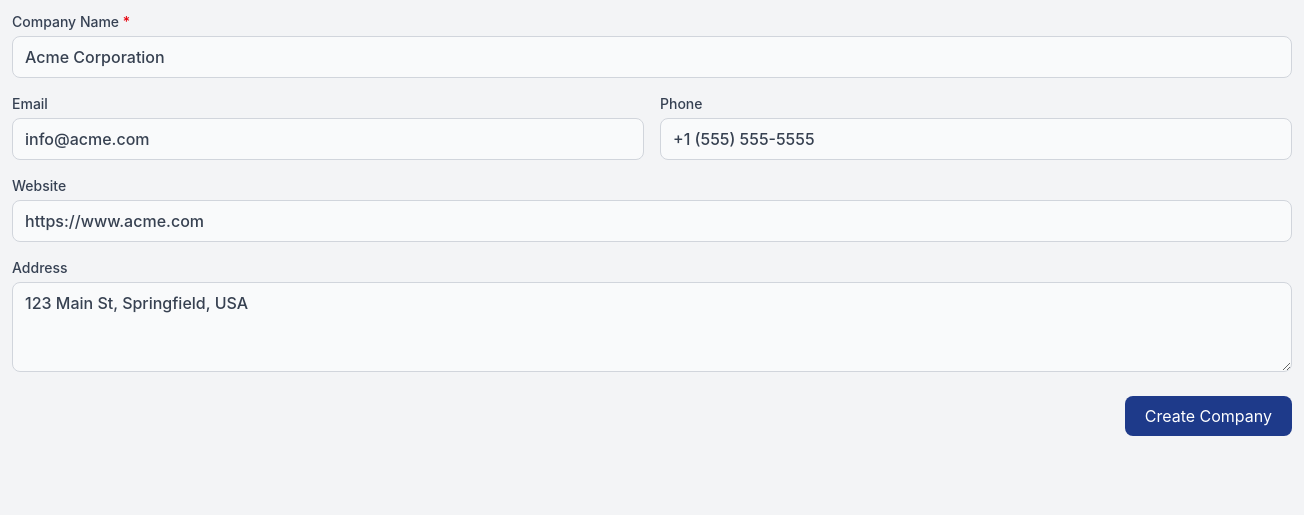
Test case: CompanyForm › handles creation errors gracefully
This screenshot has width=1304, height=515.
Type "Duplicate" into the field labelled "Company Name *".
click(652, 57); type("Duplicate")  # box [12, 36, 1292, 78]
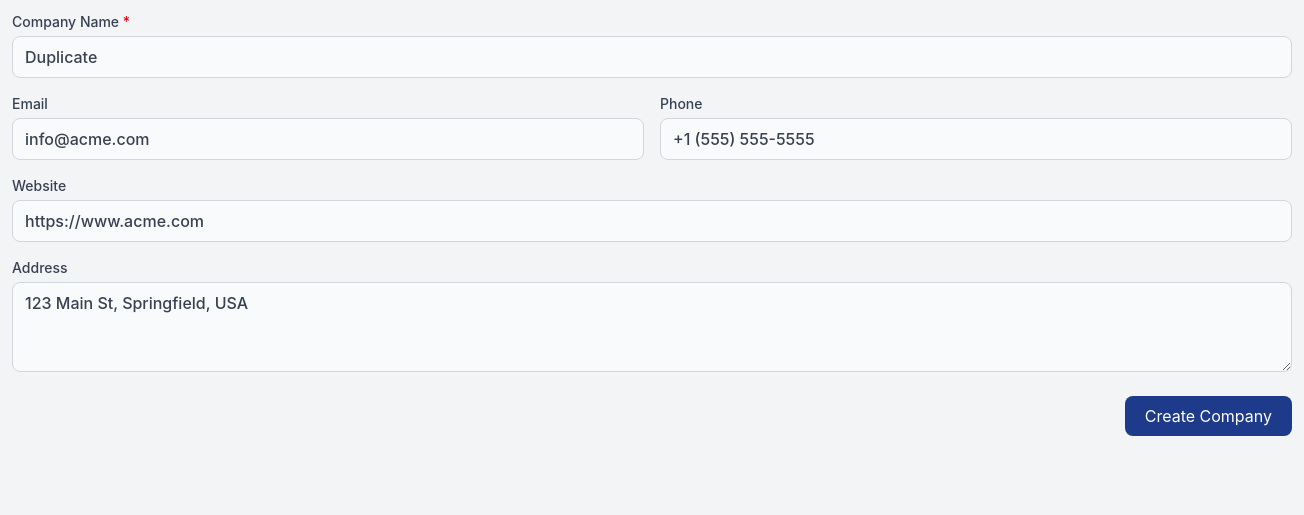
Click the button "Create Company".
click(1208, 416)  # box [1125, 396, 1292, 436]
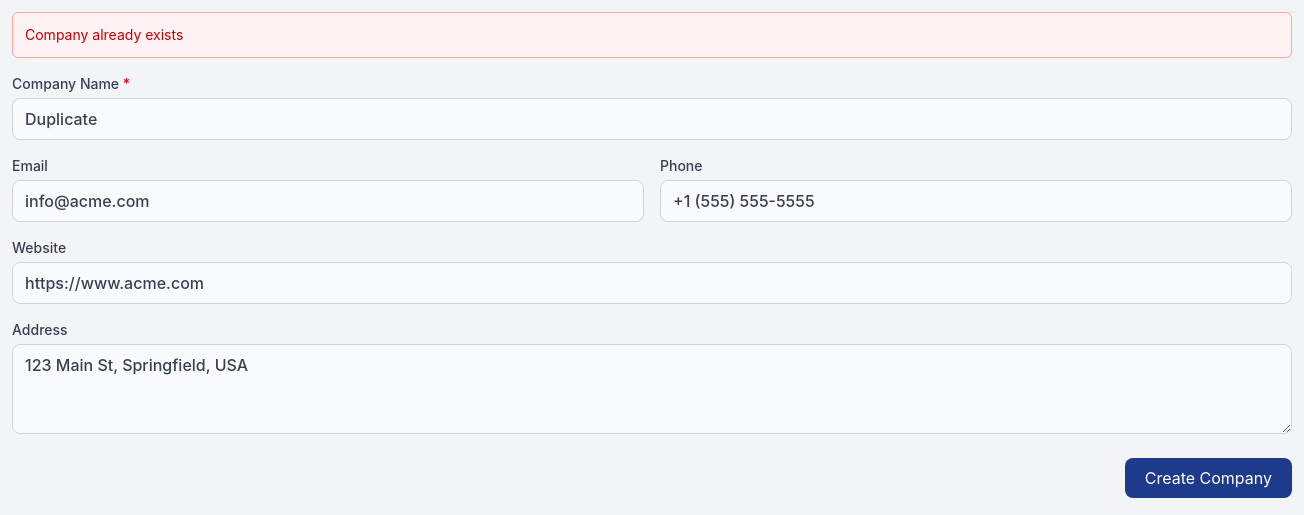
Result: the text "Company already exists" is shown at [12, 12, 1292, 58]
